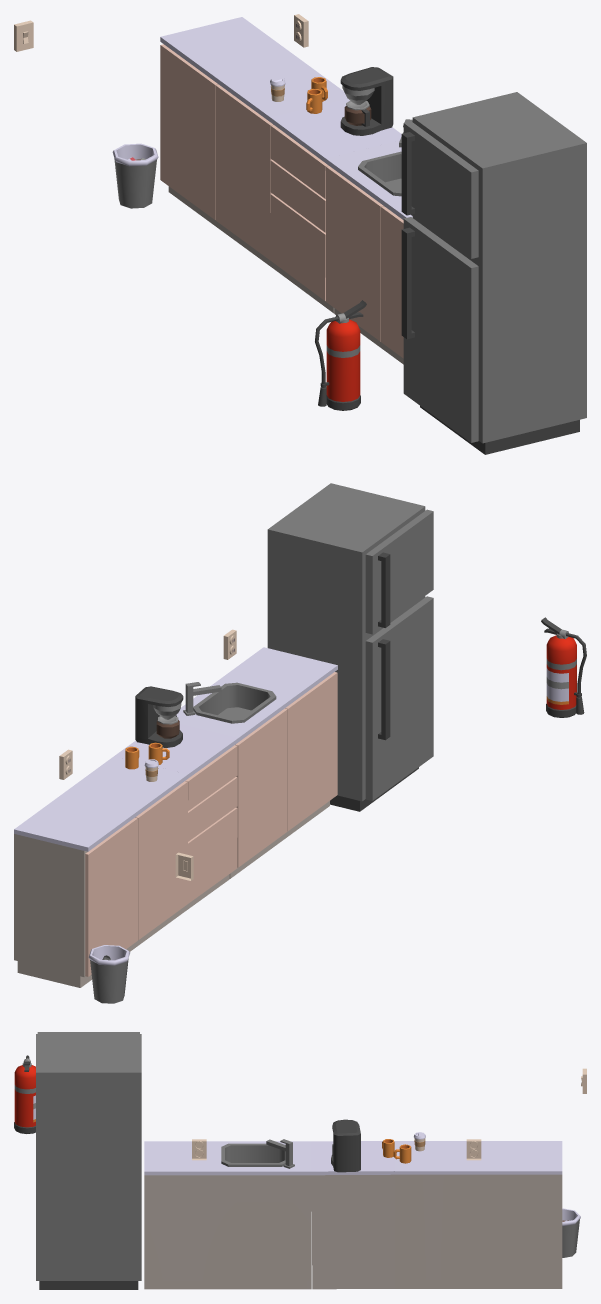
The picture shows the model from 3 angles, top to bottom: view 1: azimuth 30°, elevation 25°; view 2: azimuth 150°, elevation 25°; view 3: azimuth 270°, elevation 25°; orthographic projection. The views are drawn at different scales.
Parts seen in each view (by area): view 1: fridge, kitchen3, kitchen1, kitchen2, fire_extinguisher, coffeemachine_darkgrey, bin_full, switch; view 2: fridge, kitchen3, kitchen1, kitchen2, fire_extinguisher, coffeemachine_darkgrey, bin_full; view 3: fridge, kitchen1, kitchen3, kitchen2, fire_extinguisher, coffeemachine_darkgrey, bin_full, electrical_outlet.
Part boxes in pixels (x1,y1,x2,y2): fridge: (401,92,586,454); kitchen3: (160,17,347,272); kitchen1: (325,119,412,364); kitchen2: (270,98,401,313); fire_extinguisher: (315,300,366,410); coffeemachine_darkgrey: (340,67,393,135); bin_full: (112,143,158,208); switch: (14,20,33,51); fridge: (267,483,433,811); kitchen3: (14,756,187,987); kitchen1: (176,647,337,878); kitchen2: (114,724,237,914); fire_extinguisher: (541,617,586,717); coffeemachine_darkgrey: (135,686,183,747); bin_full: (88,945,130,1003); fridge: (36,1032,141,1289); kitchen1: (144,1139,311,1289); kitchen3: (395,1141,562,1288); kitchen2: (311,1141,395,1289); fire_extinguisher: (14,1055,35,1133); coffeemachine_darkgrey: (331,1119,360,1172); bin_full: (562,1208,580,1257); electrical_outlet: (466,1139,481,1160).
Size of the model in its own units: 177 by 172 by 408.
